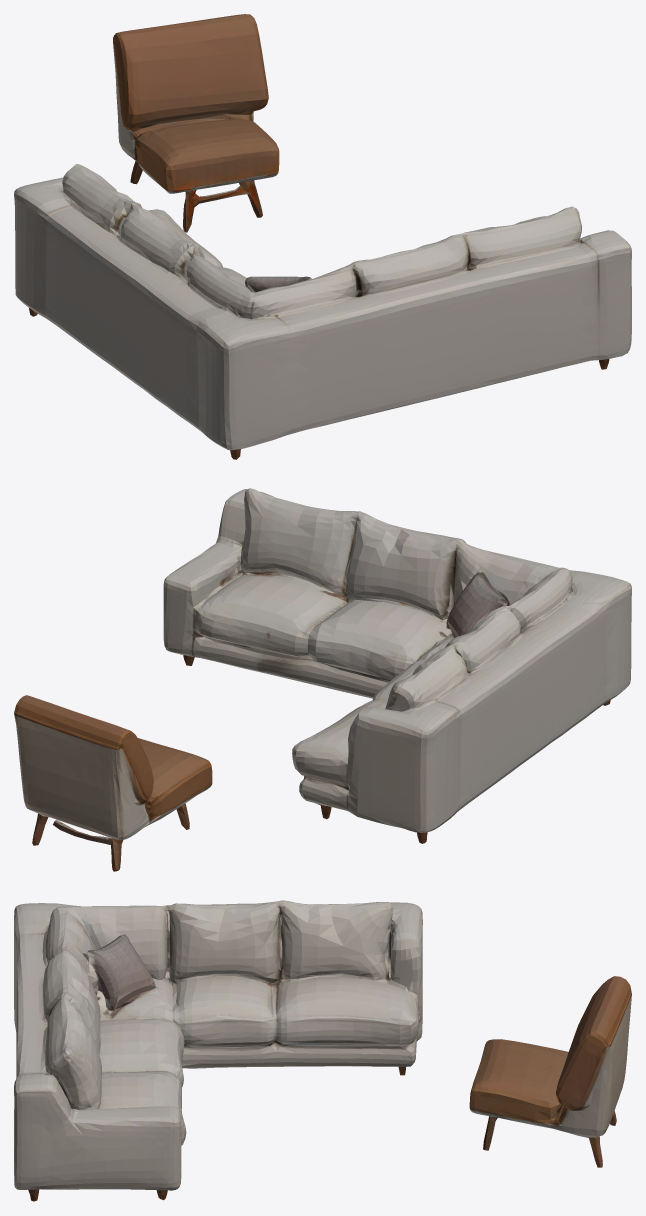
The model's file is sofa1.glb.
3 renders of one model, top to bottom at view 1: azimuth 30°, elevation 25°; view 2: azimuth 150°, elevation 25°; view 3: azimuth 270°, elevation 25°, orthographic. The views are drawn at different scales.
Visible parts, largest first — view 1: tripo_node_15fe1762-bf97-4cf8-8bc0-10385d7b41fd; view 2: tripo_node_15fe1762-bf97-4cf8-8bc0-10385d7b41fd; view 3: tripo_node_15fe1762-bf97-4cf8-8bc0-10385d7b41fd.
Boxes of the visible parts, x1,y1,x2,y2 form: tripo_node_15fe1762-bf97-4cf8-8bc0-10385d7b41fd: (14, 14, 631, 459); tripo_node_15fe1762-bf97-4cf8-8bc0-10385d7b41fd: (14, 488, 631, 871); tripo_node_15fe1762-bf97-4cf8-8bc0-10385d7b41fd: (14, 900, 631, 1201).
Size of the model in its own units: 0.7267 by 0.2608 by 0.9975.
Materials: 1 (1 with a texture image).
